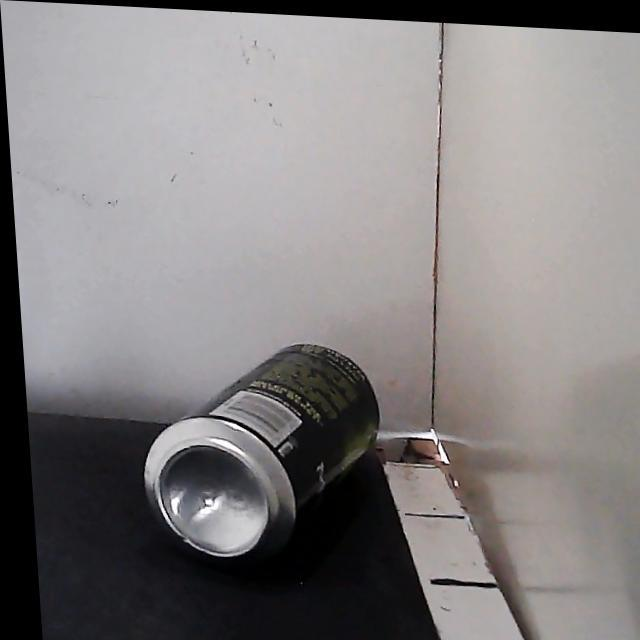metal: (144, 344, 379, 561)
